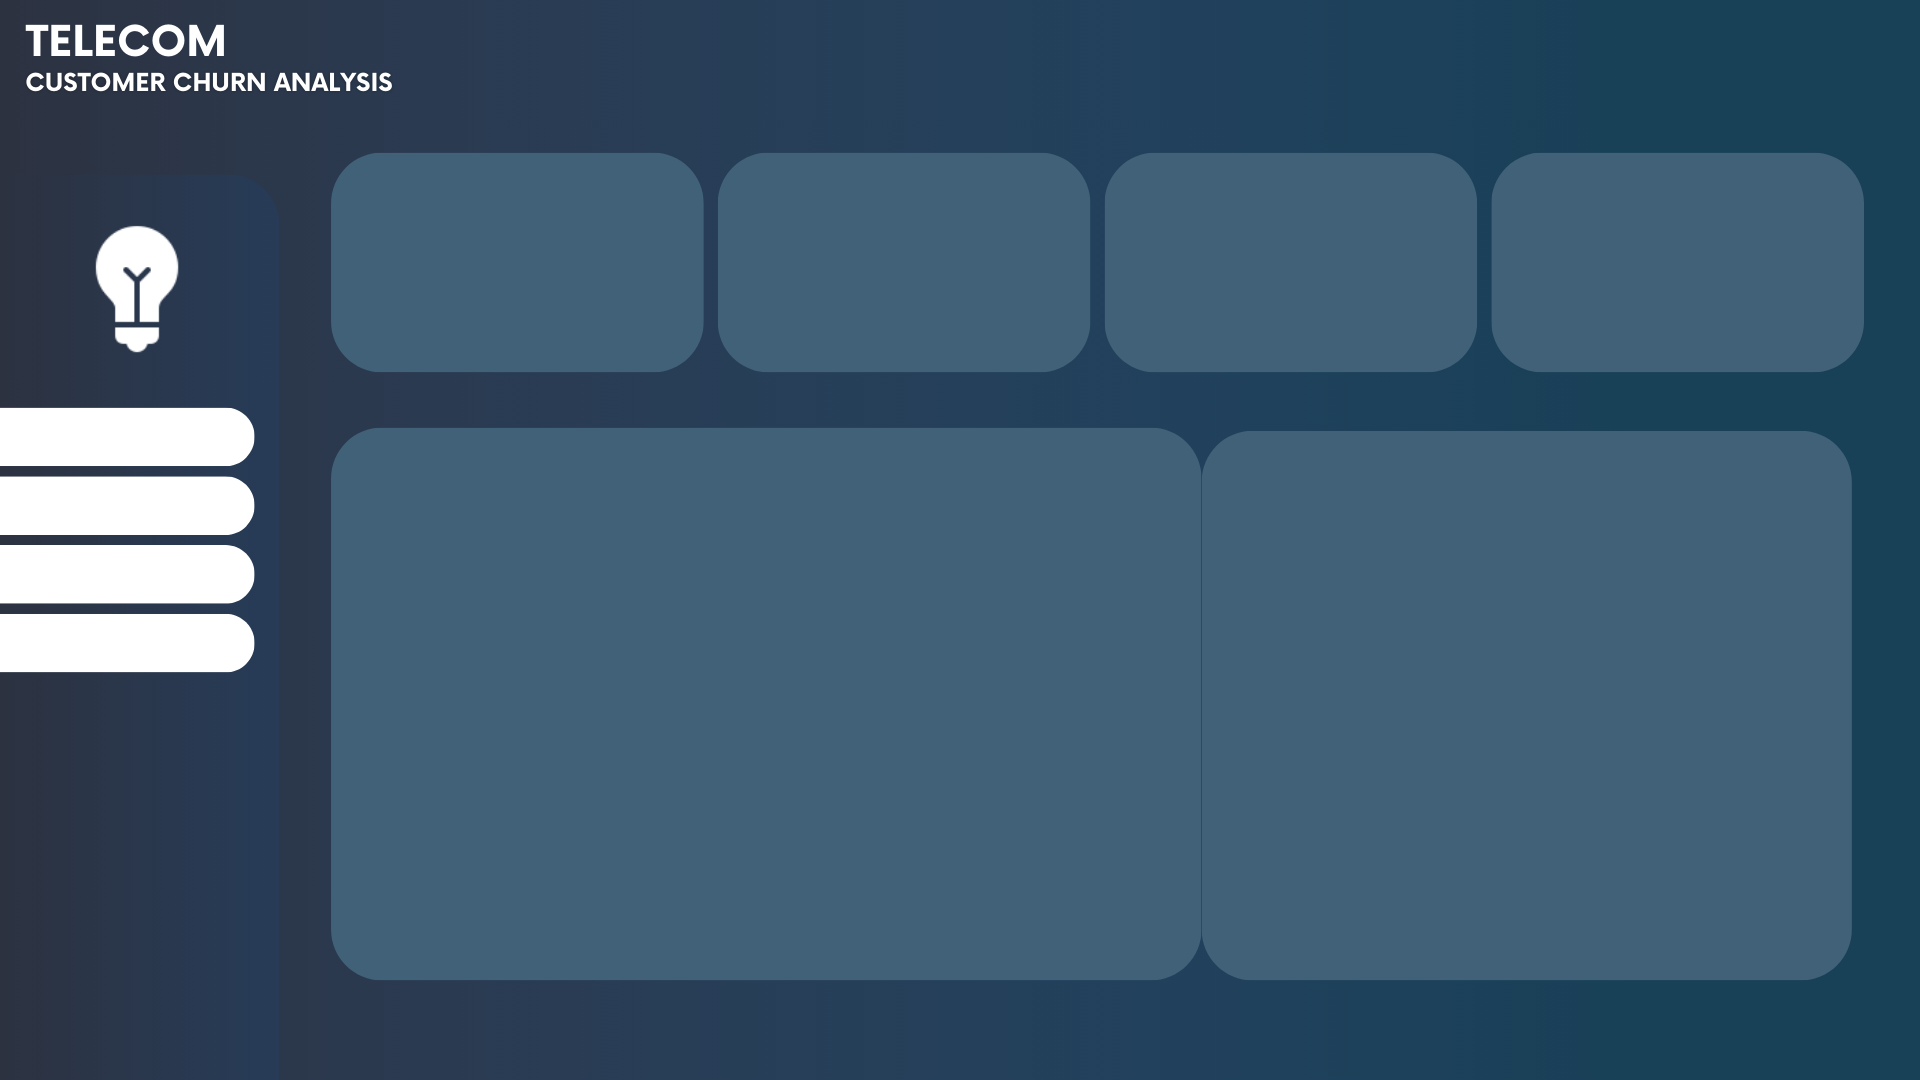

Layout of this report page (visuals, bound fields, positions):
{"tool":"powerbi","page":{"name":"Churn Reasons","canvas":[1280,720],"ordinal":2},"visuals":[{"type":"clusteredBarChart","title":"Prediction by risk group","fields":{"Category":["Telco-Churn-Analysis-Predictions.Risk"],"Y":["CountNonNull(Telco-Churn-Analysis-Predictions.Risk)"]},"box":[224,312,576,304],"z":0},{"type":"card","fields":{"Values":["Sum(Telco-Churn-Analysis-Predictions.TotalCharges)"]},"box":[1010,120,248,104],"z":1000},{"type":"card","fields":{"Values":["Sum(Telco-Churn-Analysis-Predictions.TotalCharges)"]},"box":[768,120,216,104],"z":2000},{"type":"card","fields":{"Values":["Avg(Telco-Churn-Analysis-Predictions.Prediction)"]},"box":[480,112,248,120],"z":3000},{"type":"card","fields":{"Values":["CountNonNull(Telco-Churn-Analysis-Predictions.Risk)"]},"box":[224,120,240,112],"z":4000},{"type":"textbox","box":[990,131,64,72],"z":5000},{"type":"clusteredColumnChart","fields":{"Category":["Telco-Churn-Analysis-Predictions.Risk"],"Y":["Sum(Telco-Churn-Analysis-Predictions.TotalCharges)"]},"box":[800,296,432,360],"z":6000},{"type":"textbox","box":[725,130,64,72],"z":9000},{"type":"shape","box":[0,275,160,32],"z":10000},{"type":"shape","box":[0,321,160,32],"z":11000},{"type":"shape","box":[0,368,160,32],"z":12000},{"type":"shape","box":[0,413,160,32],"z":13000}]}

Visuals, with their boxes in screenshot pixels (x1, y1, x2, y2), scaled from the page's 1280x720 canvas onto the 1920x1080 screenshot:
"Prediction by risk group" clusteredBarChart: bbox=[336, 468, 1200, 924]
card - Sum(Telco-Churn-Analysis-Predictions.TotalCharges): bbox=[1515, 180, 1887, 336]
card - Sum(Telco-Churn-Analysis-Predictions.TotalCharges): bbox=[1152, 180, 1476, 336]
card - Avg(Telco-Churn-Analysis-Predictions.Prediction): bbox=[720, 168, 1092, 348]
card - CountNonNull(Telco-Churn-Analysis-Predictions.Risk): bbox=[336, 180, 696, 348]
textbox: bbox=[1485, 196, 1581, 304]
clusteredColumnChart - Telco-Churn-Analysis-Predictions.Risk x Sum(Telco-Churn-Analysis-Predictions.TotalCharges): bbox=[1200, 444, 1848, 984]
textbox: bbox=[1088, 195, 1184, 303]
shape: bbox=[0, 412, 240, 460]
shape: bbox=[0, 482, 240, 530]
shape: bbox=[0, 552, 240, 600]
shape: bbox=[0, 620, 240, 668]
